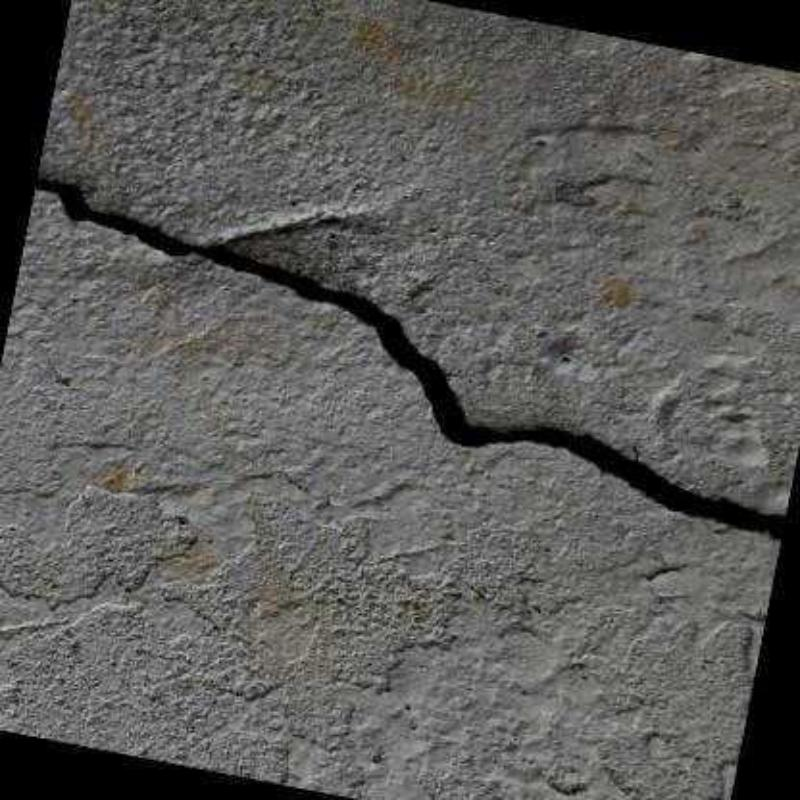pothole: (34, 177, 785, 540)
